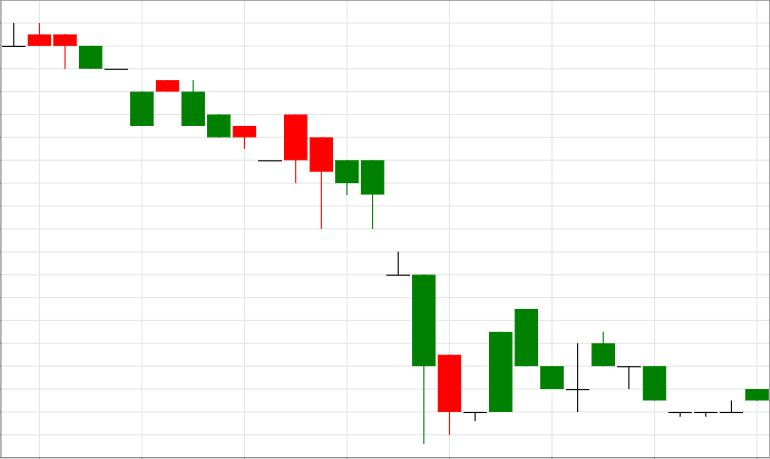morning_star_rise: (285, 114, 512, 444)
